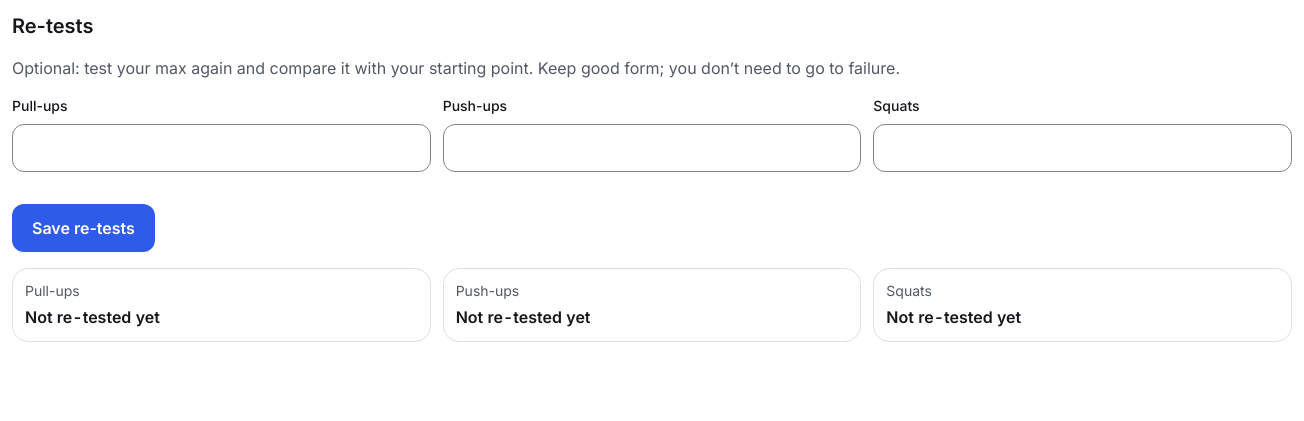
RetestForm (D73) › asks for at least one result, and a whole number from 0 to 500
The width and height of the screenshot is (1304, 421).
Step 1. Click the button "Save re-tests" → (83, 228), box [12, 204, 155, 252]
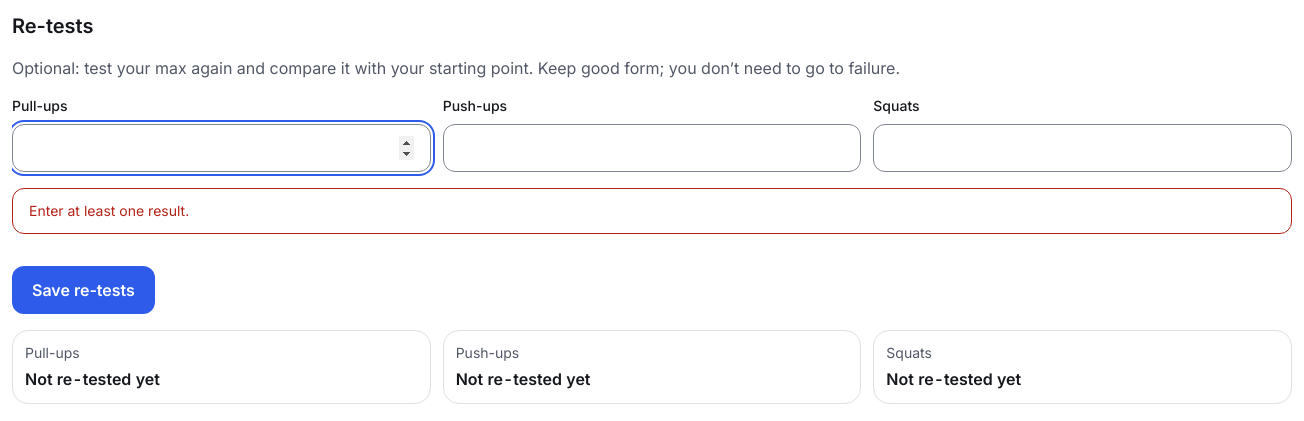
Expected: the message reads "Enter at least one result.", [29, 202, 189, 219]
Step 2. Type "501" into the number field labelled "Push-ups" → (652, 148), box [443, 124, 861, 172]
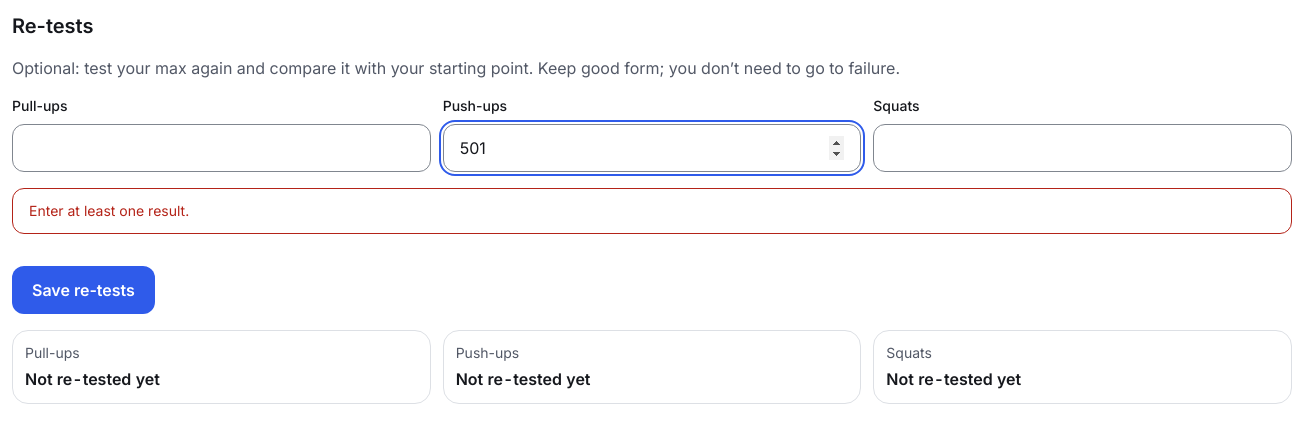
Step 3. Click the button "Save re-tests" → (83, 290), box [12, 266, 155, 314]
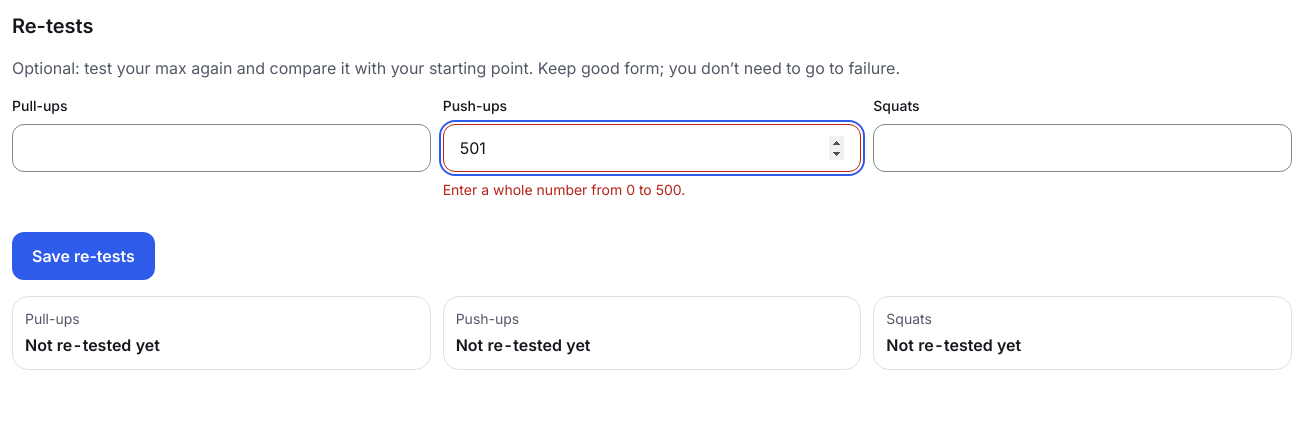
Expected: the text "Enter a whole number from 0 to 500." is shown, [443, 181, 685, 198]
